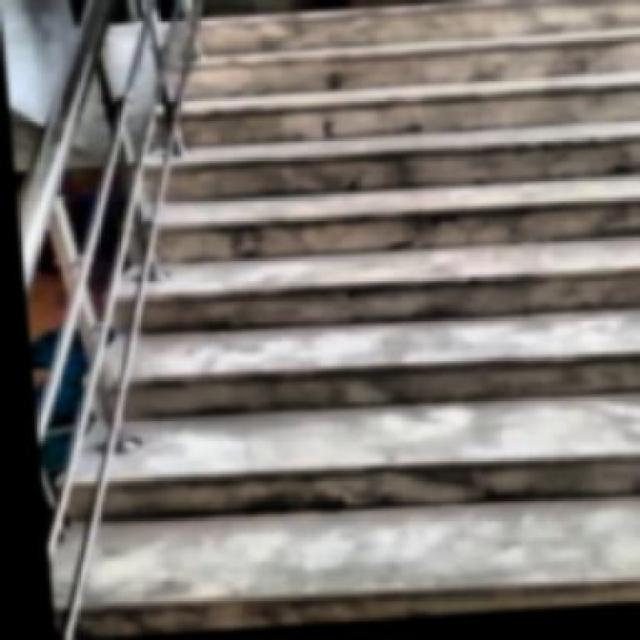stair: (38, 0, 638, 638)
